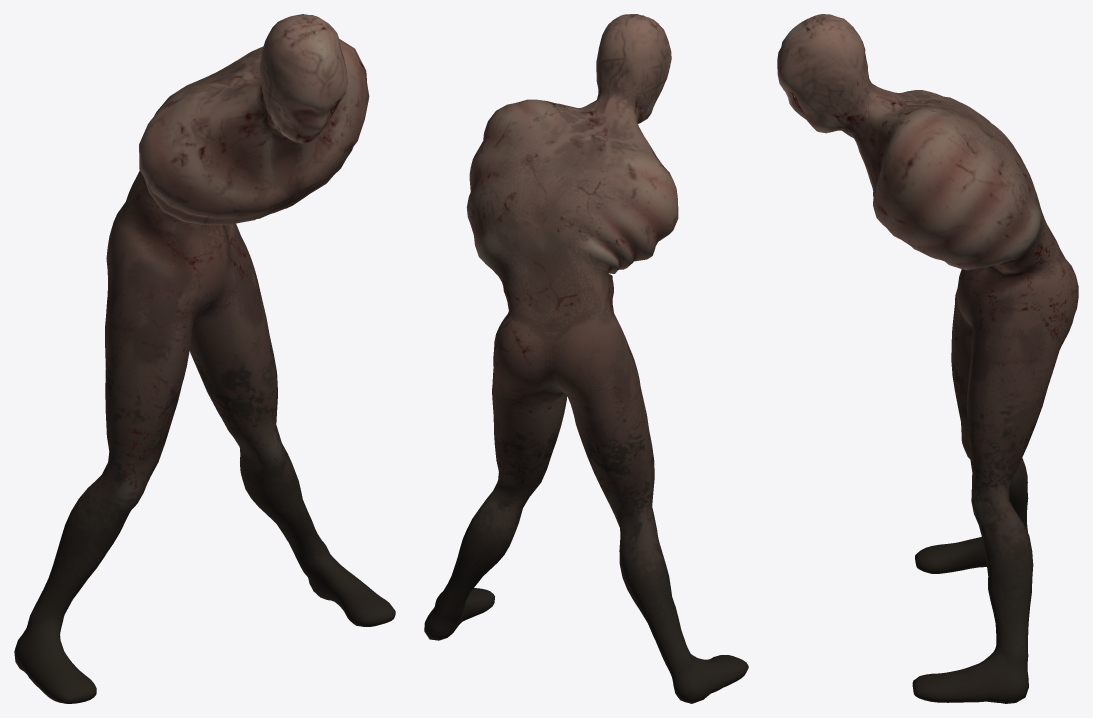
The model's file is torso.obj.
The picture shows the model from 3 angles, left to right: view 1: azimuth 30°, elevation 25°; view 2: azimuth 150°, elevation 25°; view 3: azimuth 270°, elevation 25°; orthographic projection. The views are drawn at different scales.
Visible parts, largest first — view 1: Object_9; view 2: Object_9; view 3: Object_9.
Boxes of the visible parts, box(x1,y1,x2,y2) form: Object_9: box(14, 14, 395, 703); Object_9: box(424, 14, 748, 703); Object_9: box(777, 14, 1078, 703).
Bounding box in the file's own units: 0.822 × 1.58 × 0.6858.
